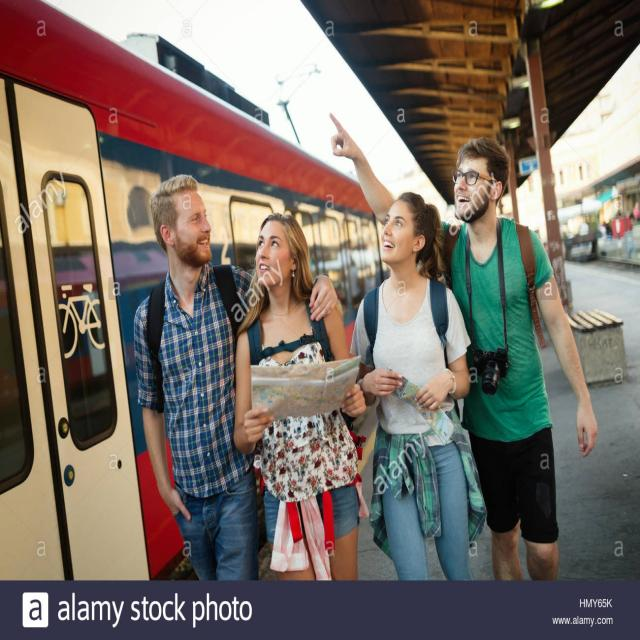body: (328, 110, 600, 582), (347, 187, 483, 580), (131, 169, 260, 582), (231, 212, 365, 582)
